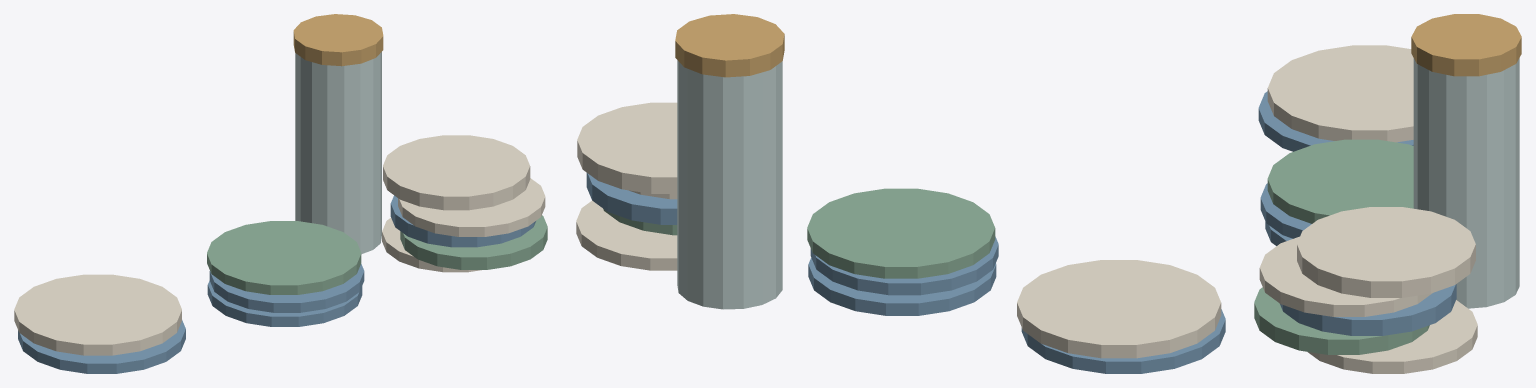
Rendered from fill_crockery.glb.
3 renders of one model, left to right at view 1: azimuth 30°, elevation 25°; view 2: azimuth 150°, elevation 25°; view 3: azimuth 270°, elevation 25°, orthographic. The views are drawn at different scales.
Parts seen in each view (by area): view 1: fill_crockery_011_jar_0, fill_crockery_002_plate_0_1, fill_crockery_005_plate_1_2, fill_crockery_010_plate_2_4, fill_crockery_009_plate_2_3, fill_crockery_012_jar_lid_0, fill_crockery_007_plate_2_1, fill_crockery_001_plate_0_0, fill_crockery_004_plate_1_1, fill_crockery_003_plate_1_0, fill_crockery_008_plate_2_2, fill_crockery_006_plate_2_0; view 2: fill_crockery_011_jar_0, fill_crockery_002_plate_0_1, fill_crockery_005_plate_1_2, fill_crockery_010_plate_2_4, fill_crockery_012_jar_lid_0, fill_crockery_006_plate_2_0, fill_crockery_003_plate_1_0, fill_crockery_001_plate_0_0, fill_crockery_004_plate_1_1, fill_crockery_008_plate_2_2, fill_crockery_007_plate_2_1; view 3: fill_crockery_011_jar_0, fill_crockery_010_plate_2_4, fill_crockery_002_plate_0_1, fill_crockery_005_plate_1_2, fill_crockery_012_jar_lid_0, fill_crockery_009_plate_2_3, fill_crockery_006_plate_2_0, fill_crockery_007_plate_2_1, fill_crockery_008_plate_2_2, fill_crockery_001_plate_0_0, fill_crockery_004_plate_1_1, fill_crockery_003_plate_1_0.
Boxes of the visible parts, x1,y1,x2,y2 form: fill_crockery_011_jar_0: (295,52,381,254); fill_crockery_002_plate_0_1: (14,274,181,355); fill_crockery_005_plate_1_2: (207,221,361,294); fill_crockery_010_plate_2_4: (383,135,530,210); fill_crockery_009_plate_2_3: (398,178,545,236); fill_crockery_012_jar_lid_0: (293,14,383,66); fill_crockery_007_plate_2_1: (400,215,547,269); fill_crockery_001_plate_0_0: (18,320,185,373); fill_crockery_004_plate_1_1: (209,264,364,312); fill_crockery_003_plate_1_0: (207,281,362,326); fill_crockery_008_plate_2_2: (390,195,535,247); fill_crockery_006_plate_2_0: (382,218,481,272); fill_crockery_011_jar_0: (677,60,782,309); fill_crockery_002_plate_0_1: (1017,260,1221,358); fill_crockery_005_plate_1_2: (807,188,995,278); fill_crockery_010_plate_2_4: (577,102,677,193); fill_crockery_012_jar_lid_0: (675,14,784,77); fill_crockery_006_plate_2_0: (576,200,677,270); fill_crockery_003_plate_1_0: (808,258,996,315); fill_crockery_001_plate_0_0: (1021,309,1225,373); fill_crockery_004_plate_1_1: (810,236,998,295); fill_crockery_008_plate_2_2: (586,173,677,224); fill_crockery_007_plate_2_1: (603,208,677,235); fill_crockery_011_jar_0: (1413,58,1519,308); fill_crockery_010_plate_2_4: (1297,207,1475,297); fill_crockery_002_plate_0_1: (1267,45,1413,142); fill_crockery_005_plate_1_2: (1267,139,1413,223); fill_crockery_012_jar_lid_0: (1411,14,1521,76); fill_crockery_009_plate_2_3: (1259,236,1432,316); fill_crockery_006_plate_2_0: (1308,300,1477,373); fill_crockery_007_plate_2_1: (1254,287,1429,354); fill_crockery_008_plate_2_2: (1280,284,1456,335); fill_crockery_001_plate_0_0: (1258,91,1413,151); fill_crockery_004_plate_1_1: (1260,183,1311,238); fill_crockery_003_plate_1_0: (1265,221,1292,245).
Size of the model in its own units: 0.602 by 0.2367 by 0.23.
